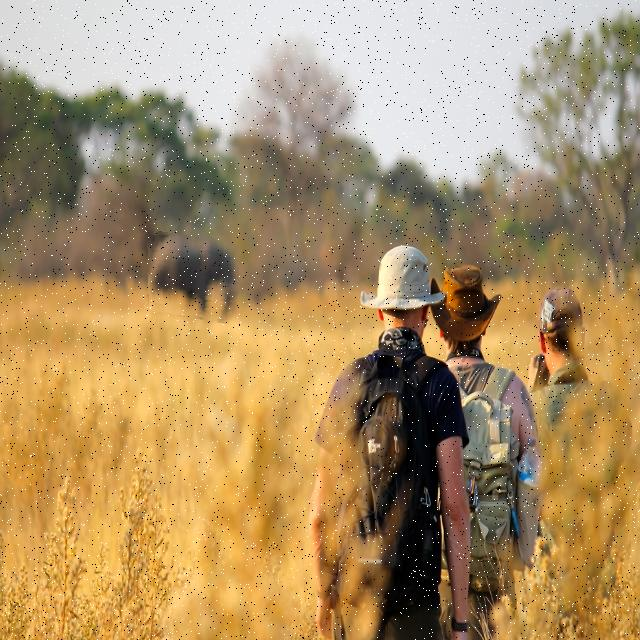elephant: (147, 235, 239, 321)
